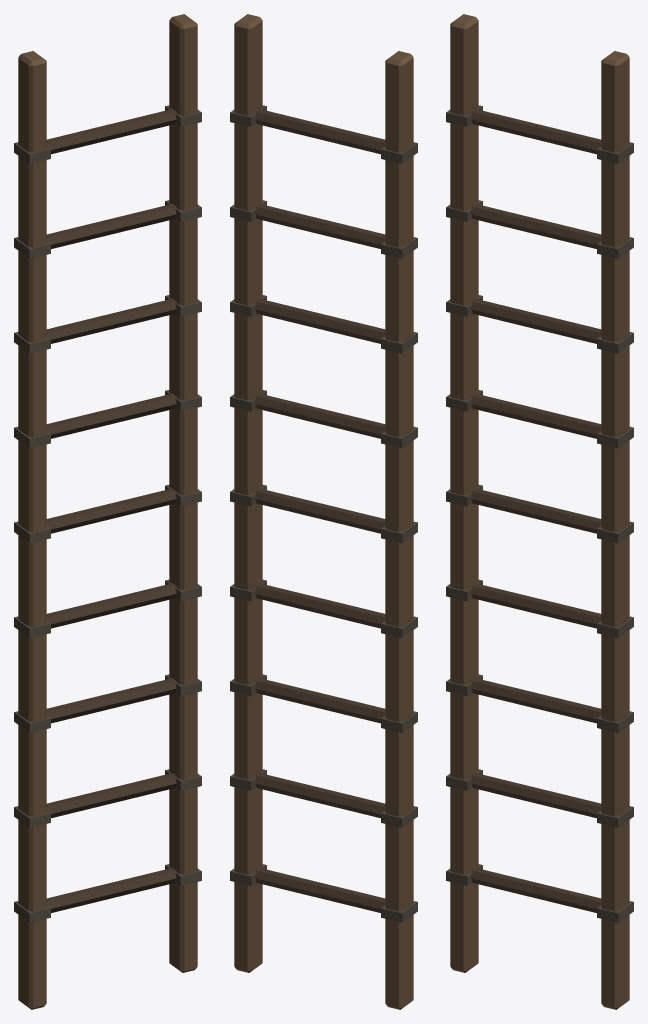
File: ladder.glb
3 views of the same model, side by side, from view 1: azimuth 30°, elevation 25°; view 2: azimuth 150°, elevation 25°; view 3: azimuth 330°, elevation 25° (orthographic).
Parts seen in each view (by area): view 1: ladder; view 2: ladder; view 3: ladder.
Boxes of the visible parts, x1,y1,x2,y2 form: ladder: [14, 14, 201, 1009]; ladder: [230, 14, 417, 1009]; ladder: [446, 14, 633, 1009].
Size of what is drawn, in the model's own units: 0.57 by 3 by 0.09.
